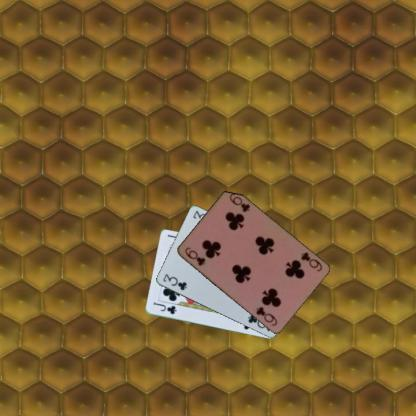3c: (160, 272, 188, 292)
6c: (182, 245, 206, 268), (298, 250, 323, 272)
Jc: (151, 300, 177, 316)
